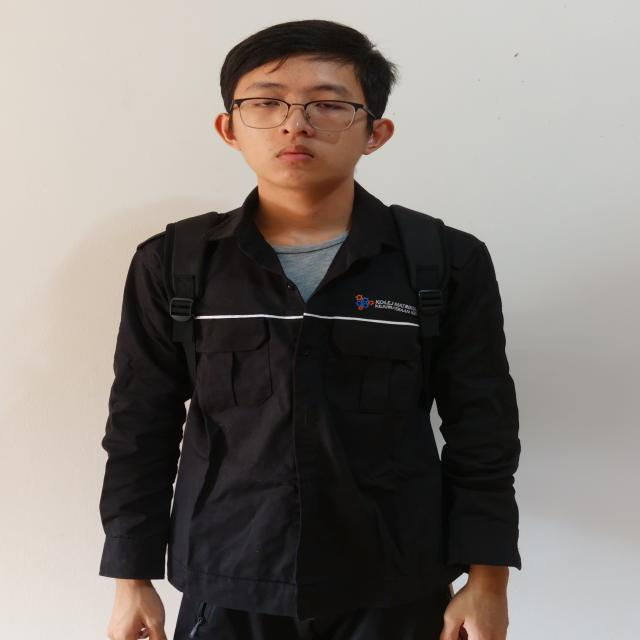person_with_labcoat: (100, 20, 520, 640)
